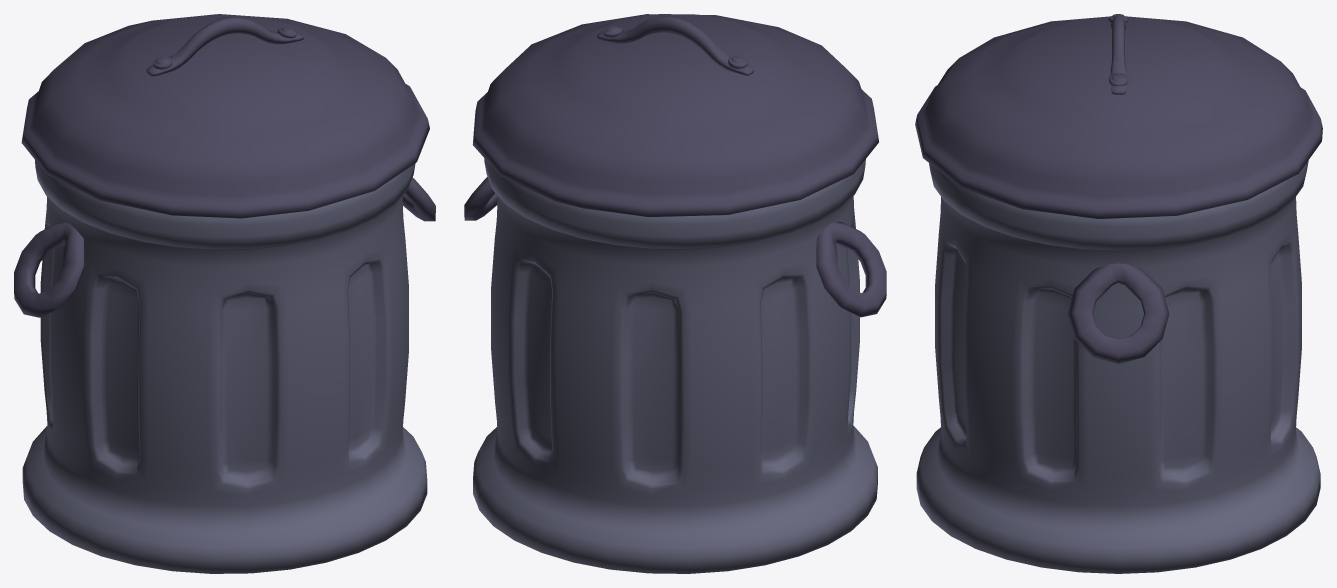
The model's file is Trashcan_Outside.glb.
3 renders of one model, left to right at view 1: azimuth 30°, elevation 25°; view 2: azimuth 150°, elevation 25°; view 3: azimuth 270°, elevation 25°, orthographic.
Parts seen in each view (by area): view 1: Trashcan_Outside; view 2: Trashcan_Outside; view 3: Trashcan_Outside.
Part boxes in pixels (bbox=[...]): Trashcan_Outside: bbox=[14, 14, 435, 573]; Trashcan_Outside: bbox=[464, 14, 886, 573]; Trashcan_Outside: bbox=[915, 14, 1322, 573].
Size of the model in its own units: 0.3511 by 0.3879 by 0.3064.
1 material, 1 textured.
